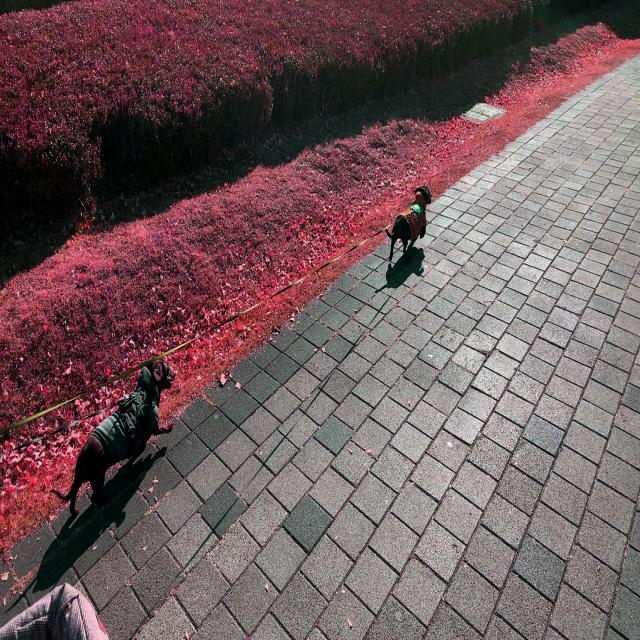Dog: (49, 354, 177, 518), (386, 185, 432, 263)
